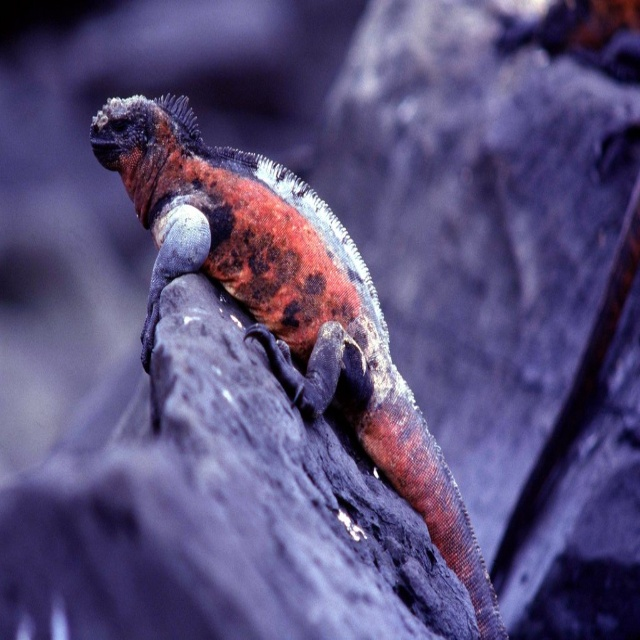Lizard: (90, 90, 509, 639)
